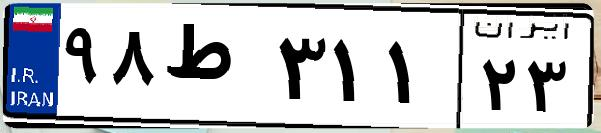1: (385, 28, 445, 110), (330, 28, 385, 110)
2: (475, 38, 525, 113)
3: (270, 28, 330, 110), (525, 38, 570, 115)
8: (110, 28, 158, 98)
9: (57, 26, 110, 100)
ط: (158, 20, 270, 120)
